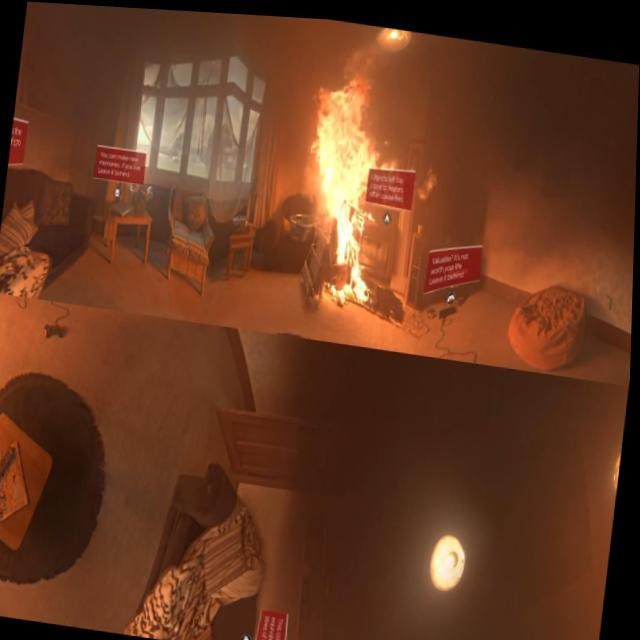fire: (294, 65, 446, 310)
